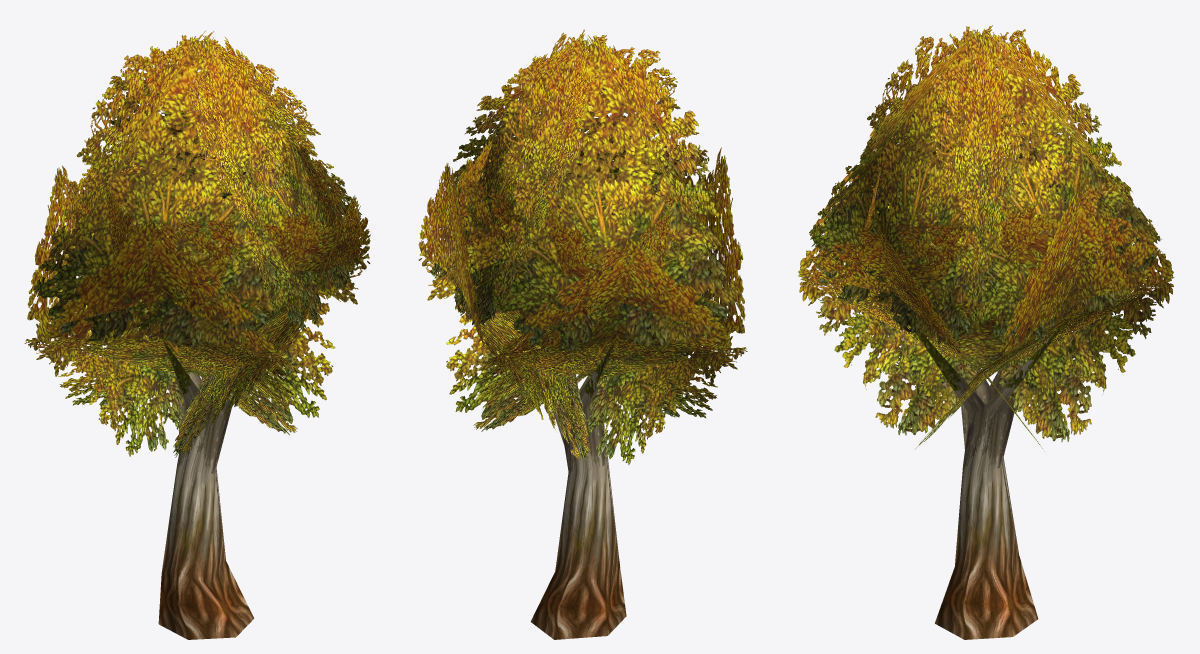
File: redridgetreecanopy04.obj
The picture shows the model from 3 angles, left to right: view 1: azimuth 30°, elevation 25°; view 2: azimuth 150°, elevation 25°; view 3: azimuth 270°, elevation 25°; orthographic projection.
Visible parts, largest first — view 1: Geoset0, Geoset1, Geoset2; view 2: Geoset0, Geoset1, Geoset2; view 3: Geoset0, Geoset1, Geoset2.
Part boxes in pixels (x1,y1,x2,y2): Geoset0: (24,31,370,457); Geoset1: (158,464,253,639); Geoset2: (163,321,293,473); Geoset0: (418,29,747,464); Geoset1: (530,459,626,639); Geoset2: (489,328,616,471); Geoset0: (798,25,1174,451); Geoset1: (935,458,1038,639); Geoset2: (872,312,1112,473).
Bounding box in the file's own units: 52.67 × 82.9 × 50.97.
Materials: 3 (3 with a texture image).
